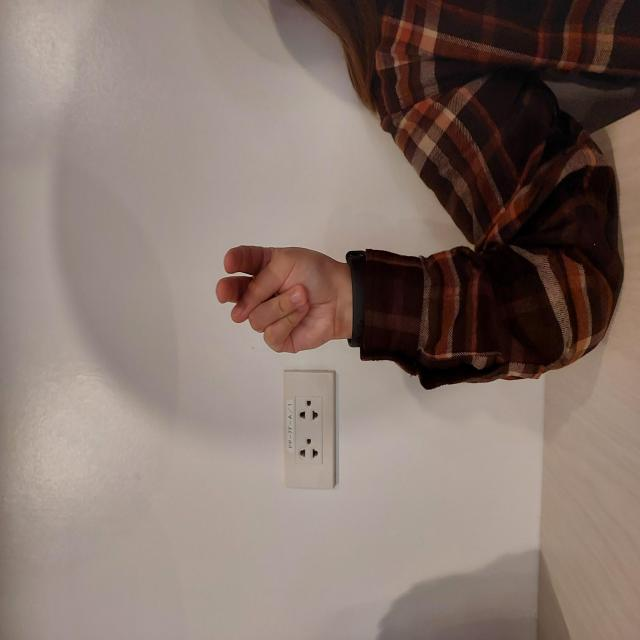N: (285, 216, 398, 346)
